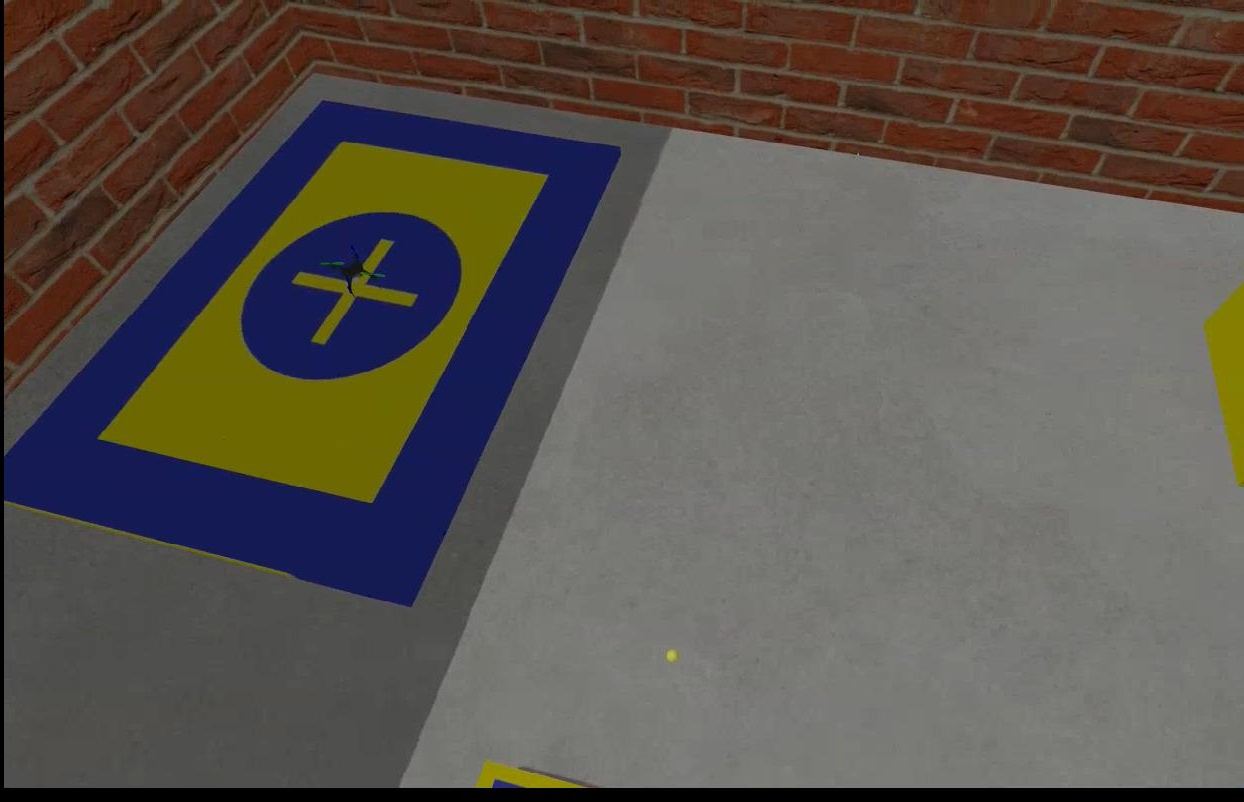large_base: (5, 100, 622, 608)
